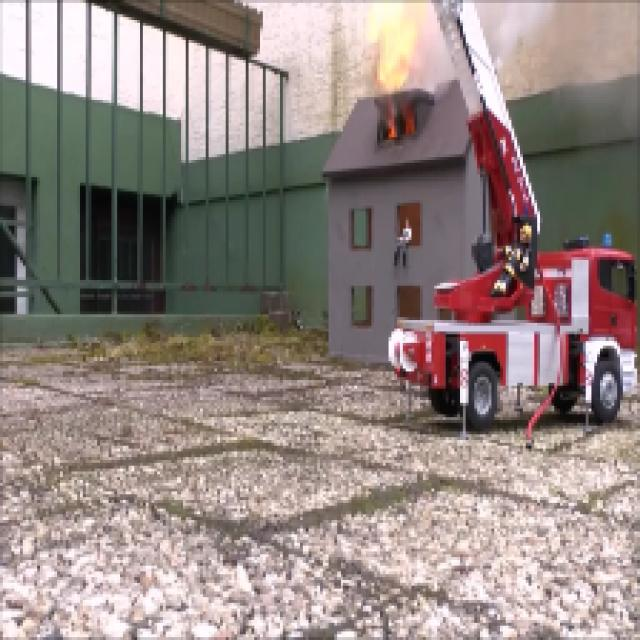fire: (361, 2, 416, 89)
